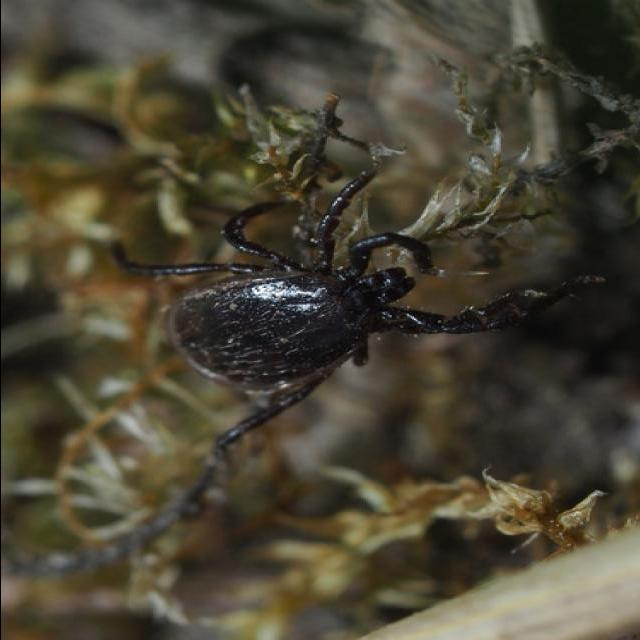Ixodes Ricinus-M: (104, 165, 602, 447)
